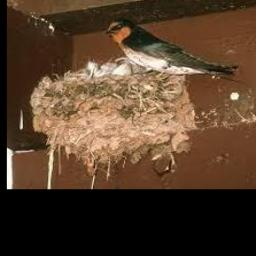Swallow: (106, 19, 238, 77)
